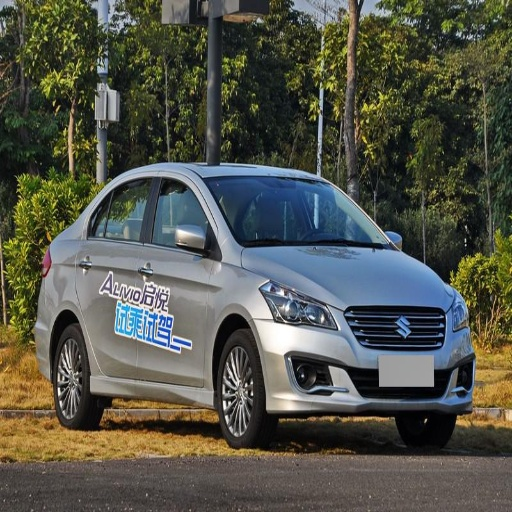back_right_door: (76, 173, 158, 378)
front_bumper: (255, 302, 476, 415)
front_right_door: (138, 173, 217, 385)
front_right_light: (260, 281, 336, 329)
